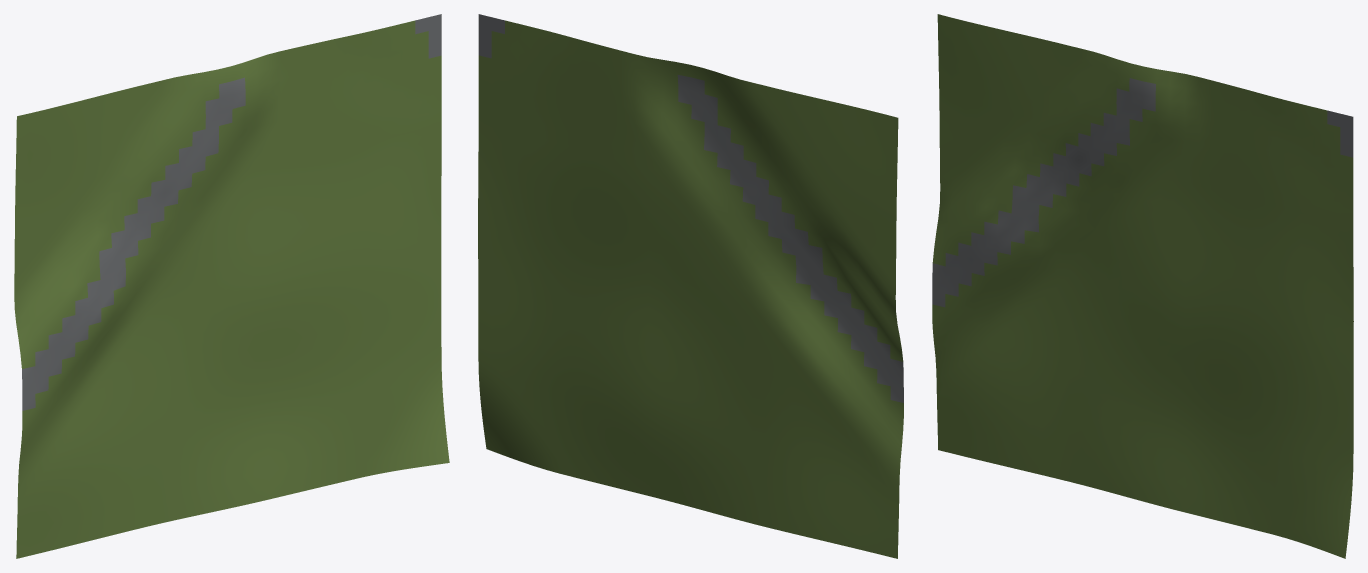
Rendered from island_terrain_15_08.obj.
3 views of the same model, side by side, from view 1: azimuth 30°, elevation 25°; view 2: azimuth 150°, elevation 25°; view 3: azimuth 330°, elevation 25° (orthographic).
Visible parts, largest first — view 1: island_terrain_15_08; view 2: island_terrain_15_08; view 3: island_terrain_15_08.
Boxes of the visible parts, x1,y1,x2,y2 form: island_terrain_15_08: (14,14,449,558); island_terrain_15_08: (478,14,903,558); island_terrain_15_08: (932,14,1353,558).
Size of the model in its own units: 256 by 256 by 12.51.
